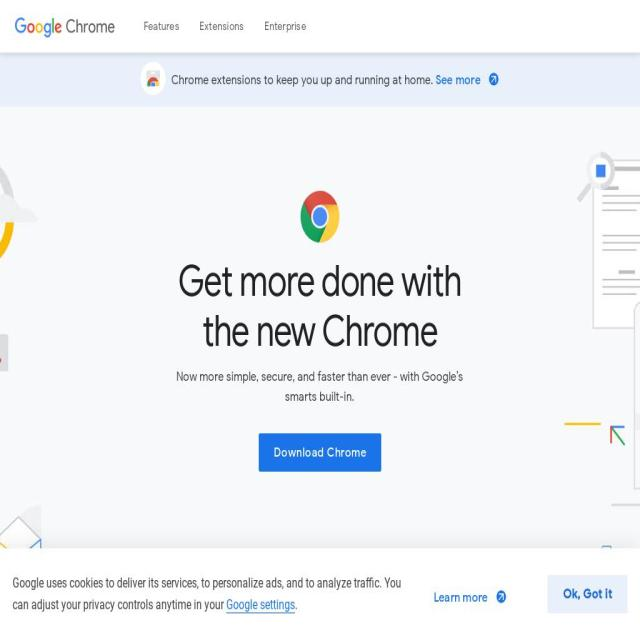button: (258, 433, 382, 472), (548, 575, 628, 613), (15, 16, 115, 37), (434, 588, 507, 606), (435, 71, 500, 89), (226, 597, 295, 613), (115, 23, 127, 41)
heading: (173, 256, 467, 356)
image: (298, 188, 341, 245), (15, 16, 115, 38), (140, 62, 166, 95), (486, 68, 498, 84), (493, 585, 505, 601)
link: (199, 0, 244, 53), (263, 0, 306, 53)
text: (12, 575, 402, 613), (176, 368, 464, 405), (171, 72, 433, 86), (133, 0, 189, 53), (273, 444, 366, 461), (434, 588, 491, 606), (121, 31, 181, 46), (435, 72, 483, 88), (319, 388, 355, 405), (295, 596, 297, 612)
